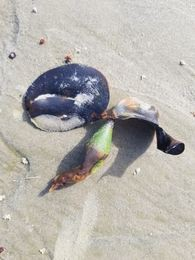water_hyacinth: (24, 60, 185, 191)
